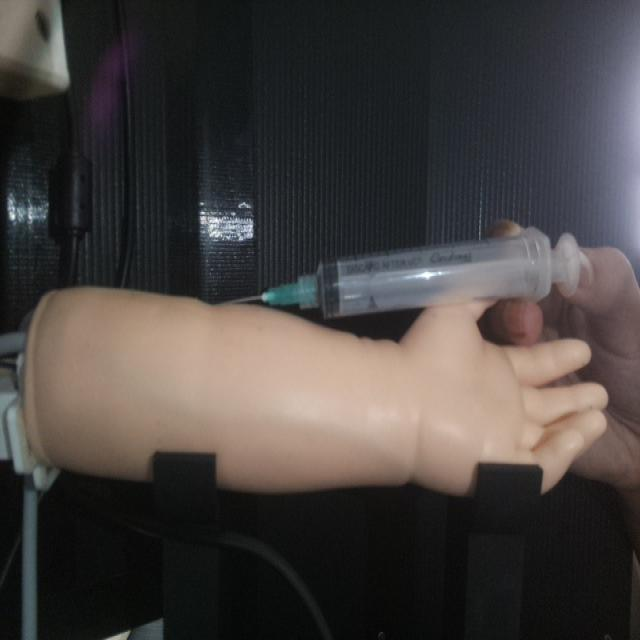Outside: (231, 223, 584, 321)
